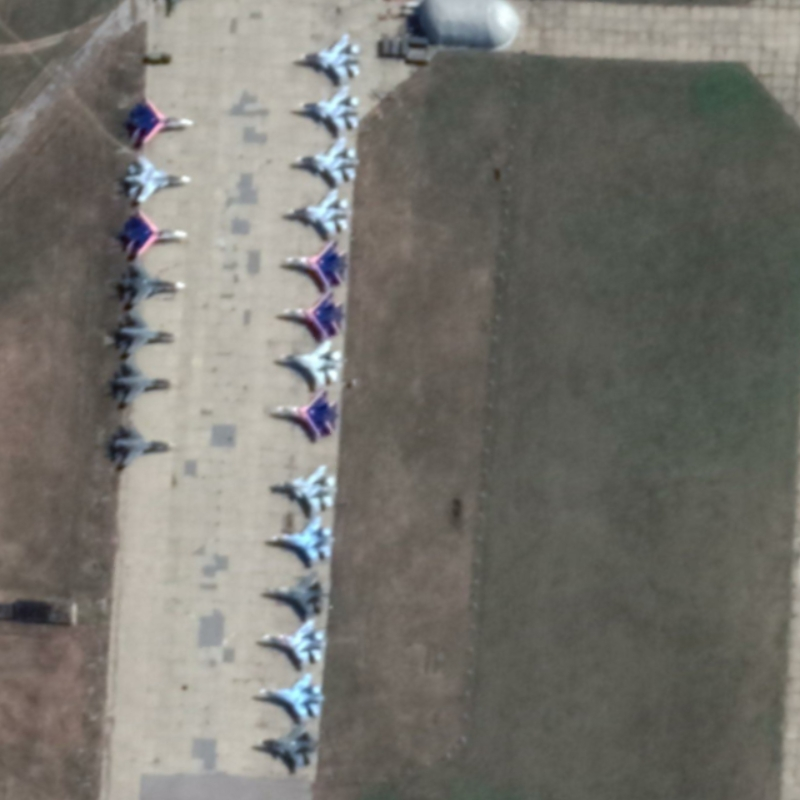A1: (124, 94, 197, 149), (117, 207, 190, 260), (282, 238, 352, 292), (257, 671, 328, 724), (269, 515, 338, 569), (270, 389, 341, 441), (257, 617, 328, 669), (278, 289, 349, 339), (109, 421, 179, 471), (276, 339, 345, 388), (262, 569, 332, 617), (108, 360, 179, 407), (117, 262, 187, 309), (115, 310, 178, 356)
A19: (271, 462, 339, 515), (122, 154, 193, 204), (294, 135, 360, 187), (295, 32, 363, 82), (285, 188, 352, 238), (294, 84, 361, 133), (254, 724, 319, 771)
